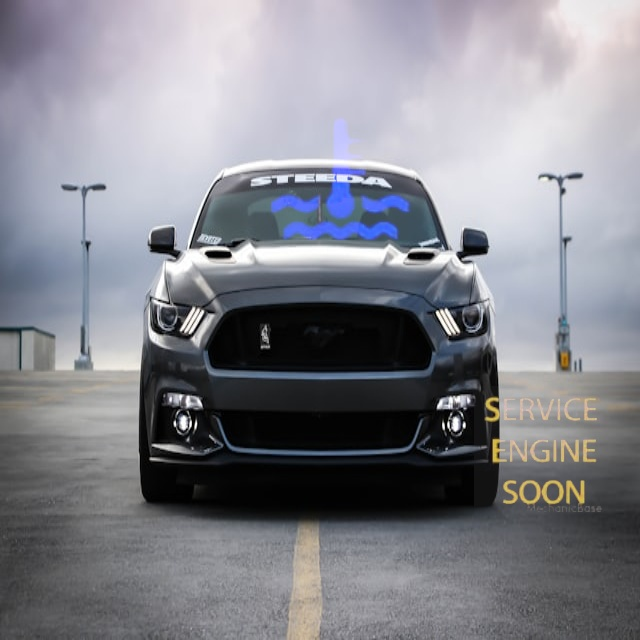symbol: (238, 77, 442, 281), (474, 386, 607, 519)
